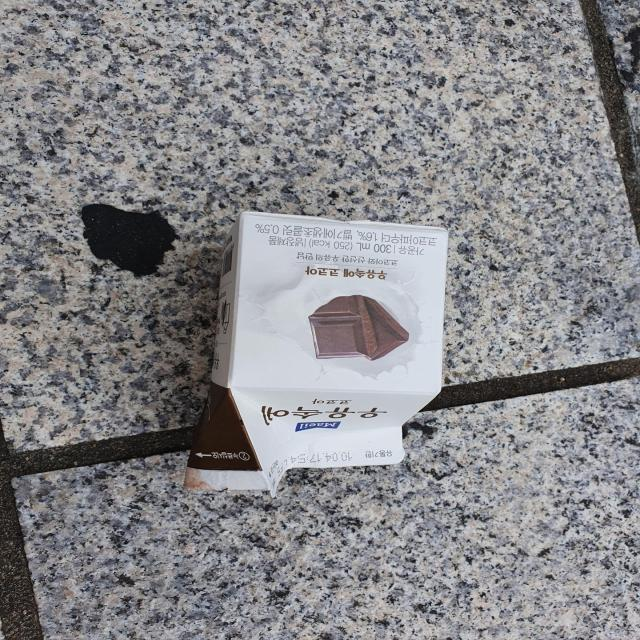paperpack: (184, 212, 448, 495)
